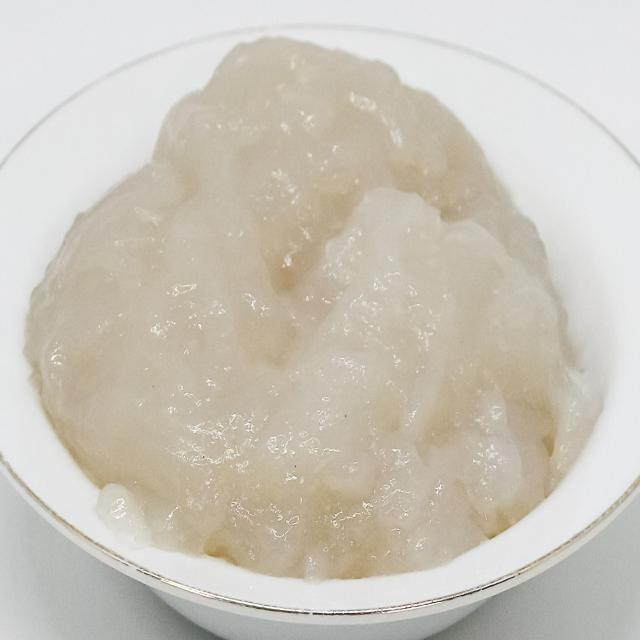Papeda: (24, 15, 604, 596)
